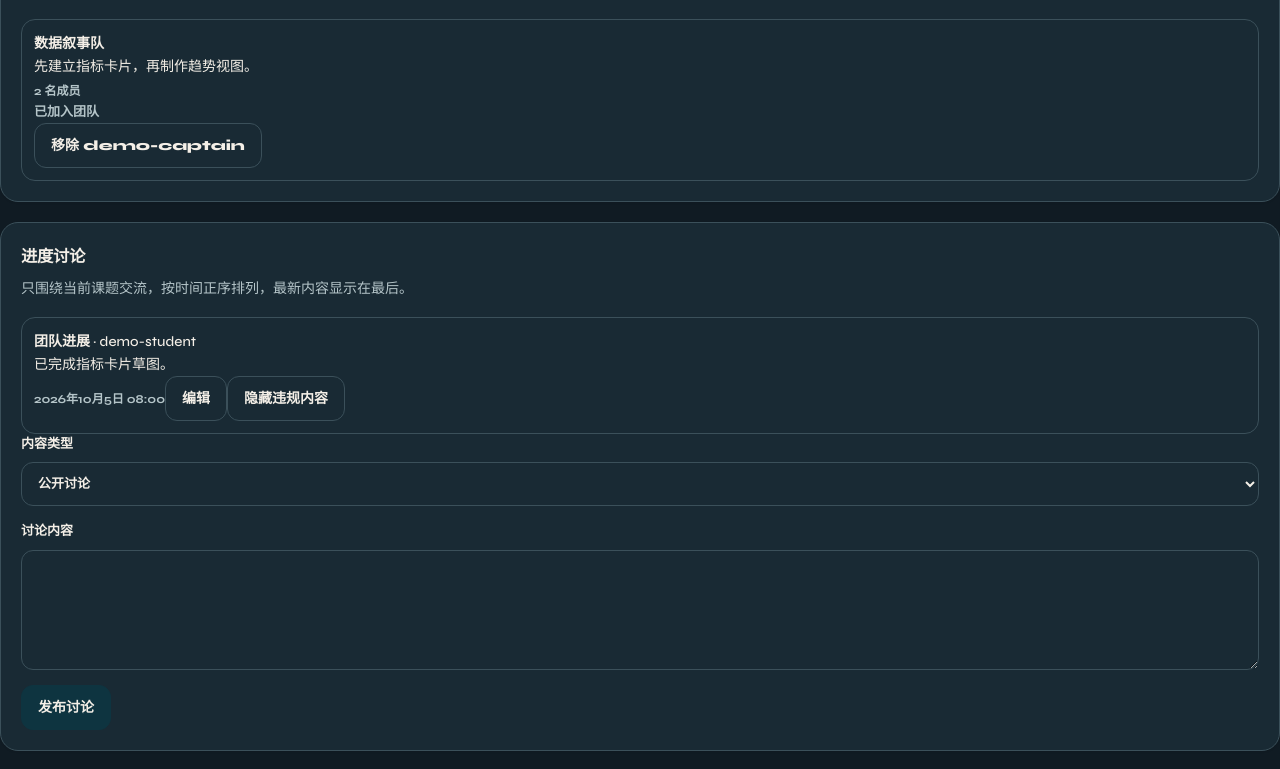
ProblemDetailPage › lets authors edit posts and maintainers hide posts and remove active team members
(page scrolled)
Click the button "编辑": (196, 398) [165, 376, 227, 421]
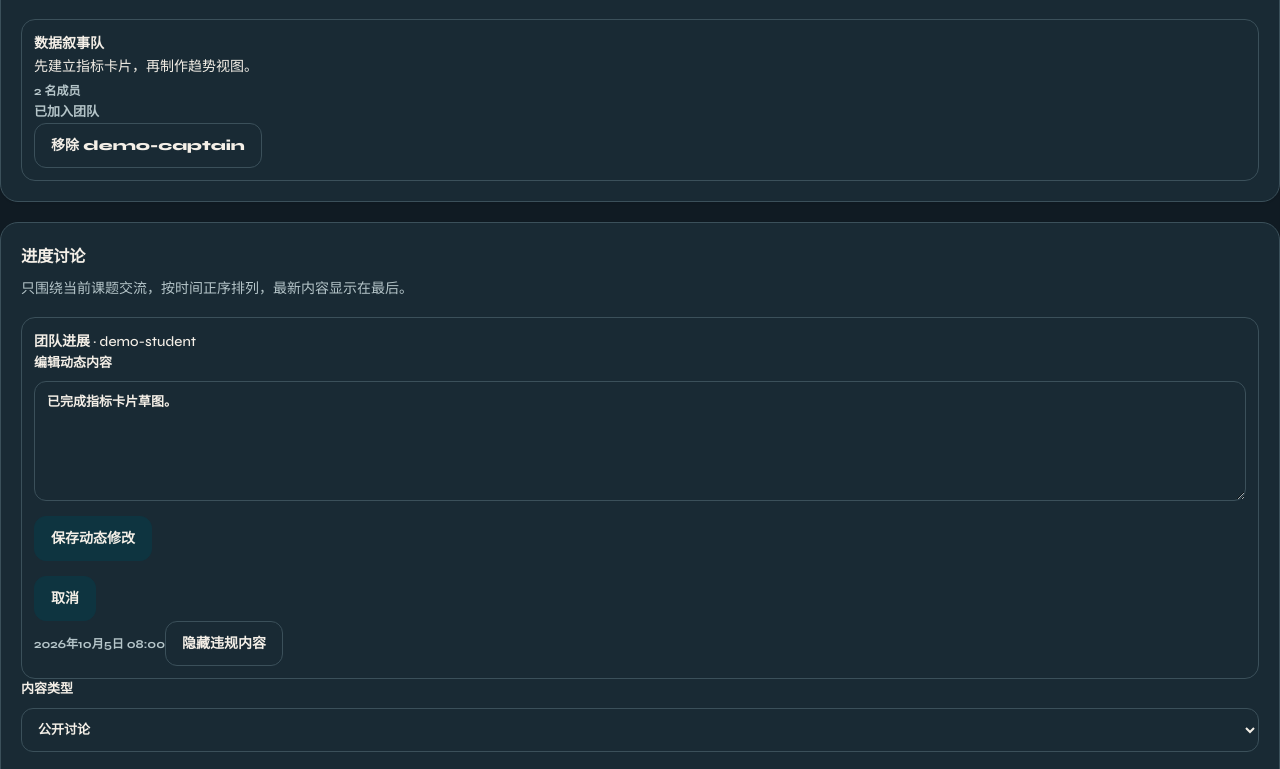
Replace the text in the text box labelled "编辑动态内容" with "作者修订后的进展。": (640, 441) [34, 381, 1246, 501]
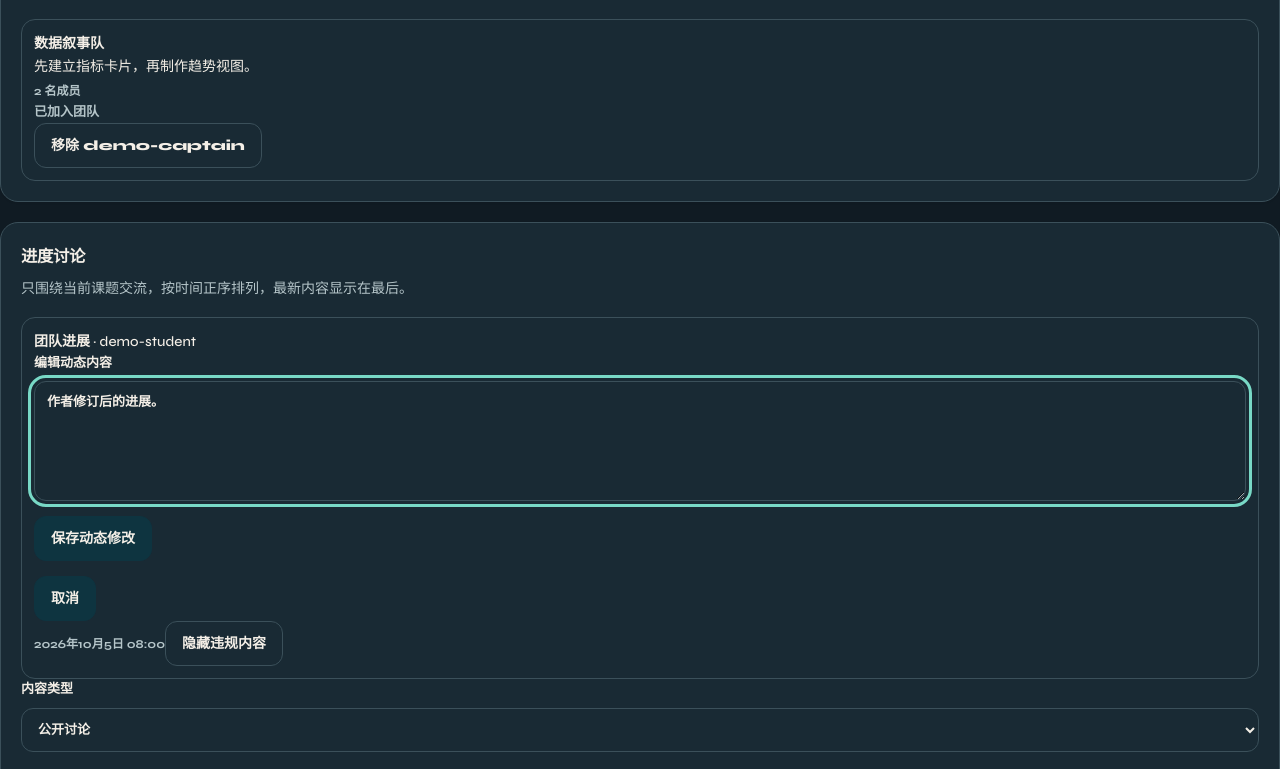
Click the button "保存动态修改": (93, 539) [34, 516, 152, 561]
(page scrolled)
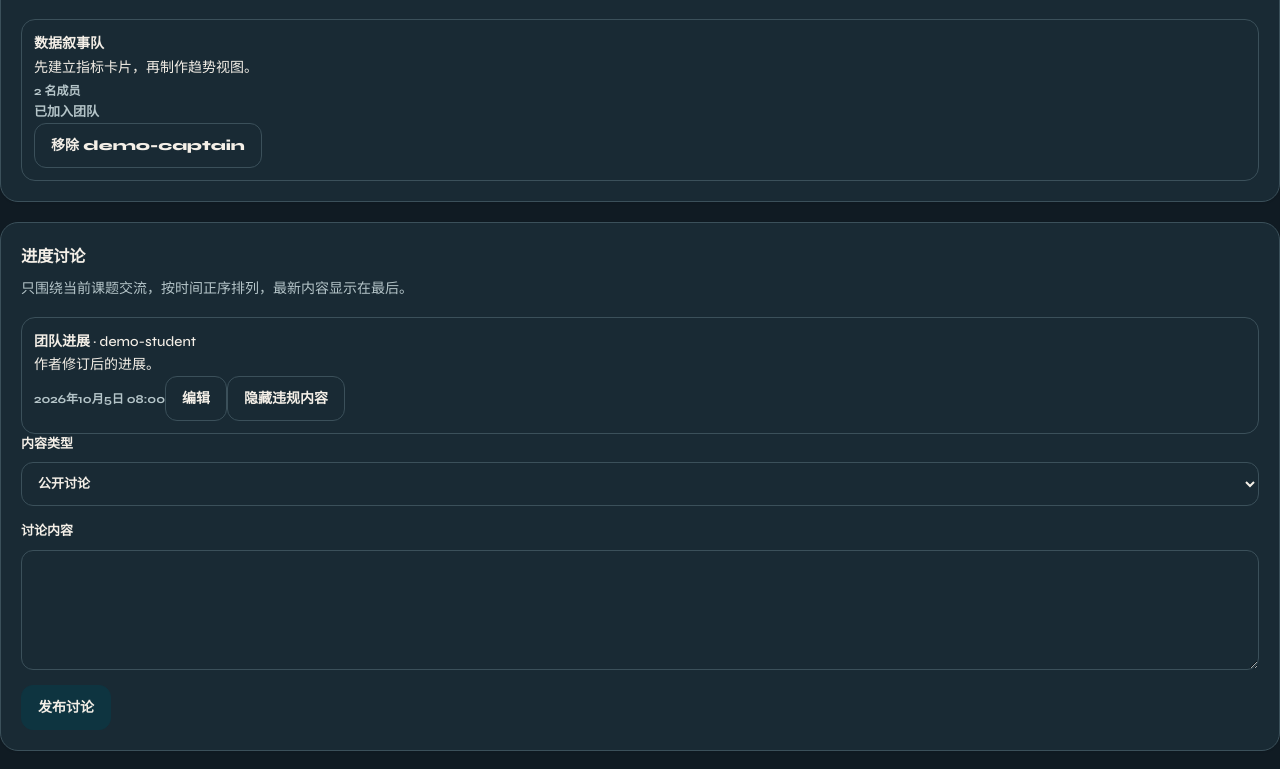
Now the text "作者修订后的进展。" is shown, box [34, 356, 160, 373]
Click the button with aria-label "移除成员：demo-captain": (148, 146) [34, 123, 262, 168]
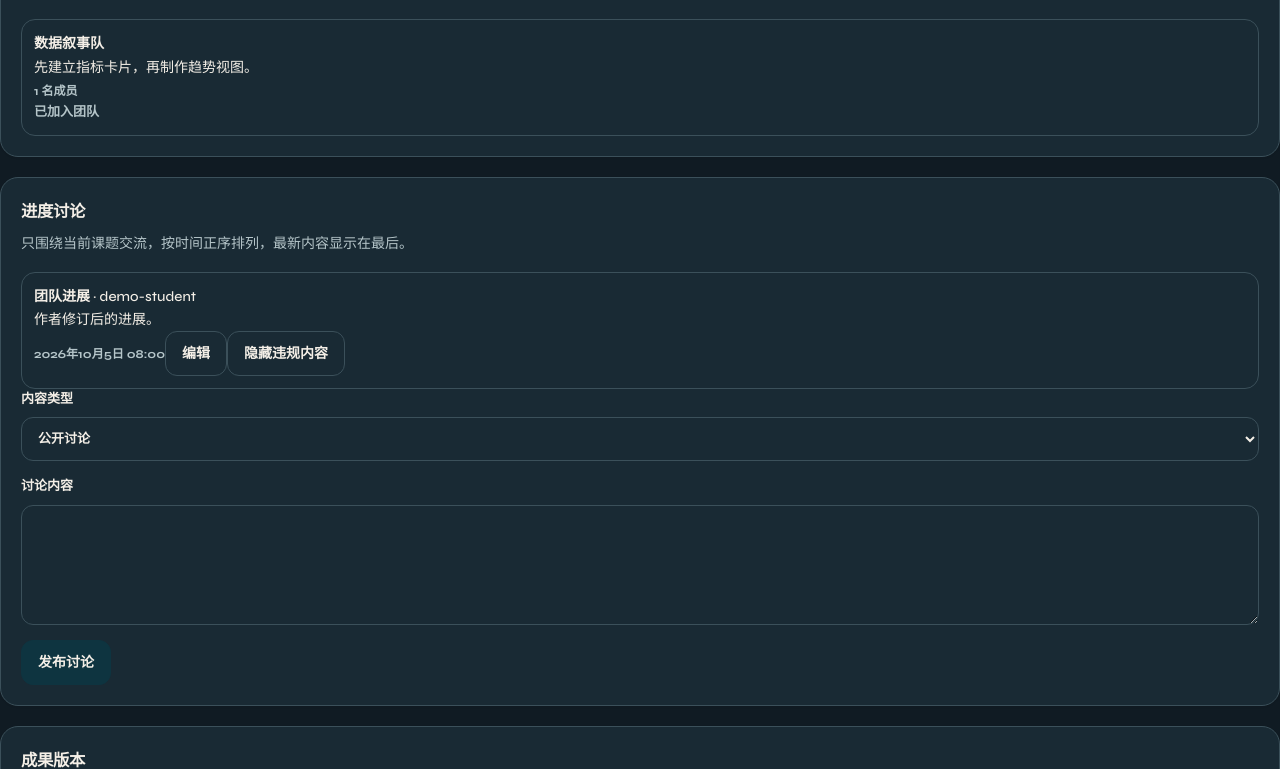
Expected: the text "demo-captain" is not shown
Click the button with aria-label "隐藏动态：作者修订后的进展。": (286, 353) [227, 331, 345, 376]
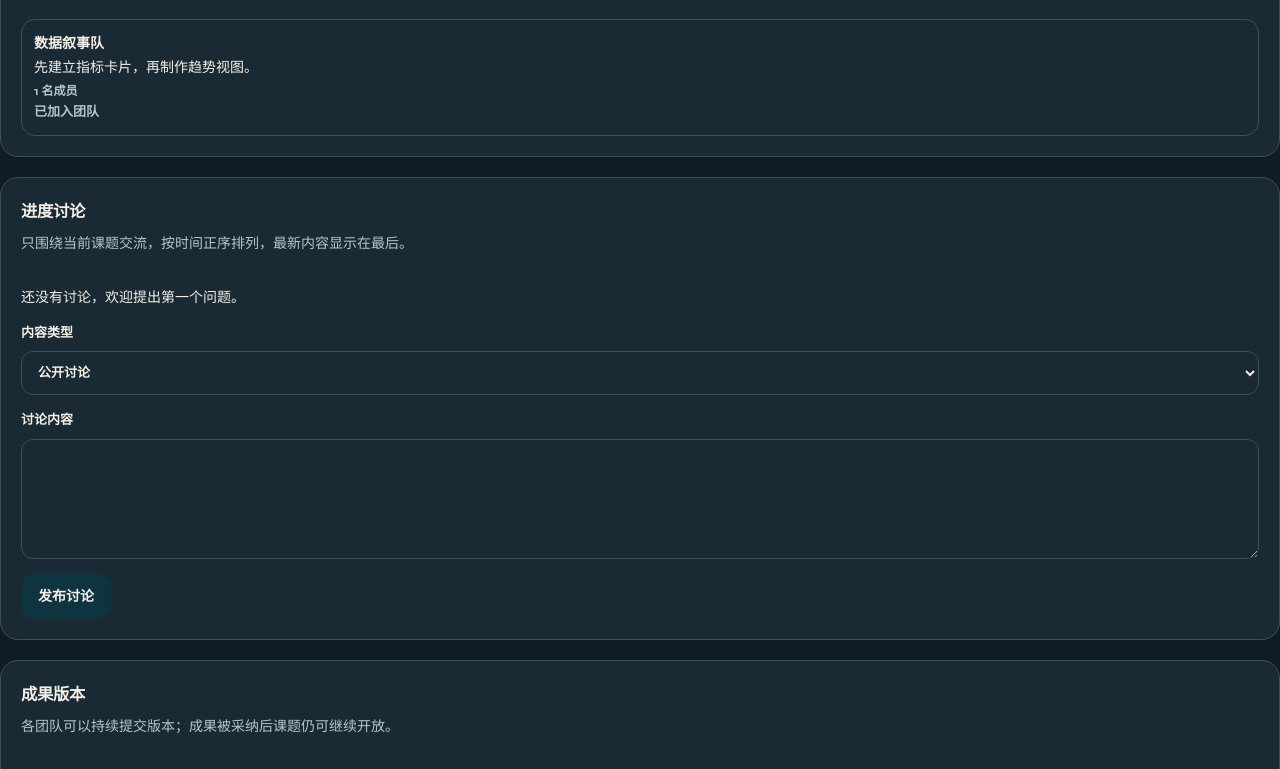
Now the text "还没有讨论，欢迎提出第一个问题。" is shown, box [21, 288, 245, 306]
